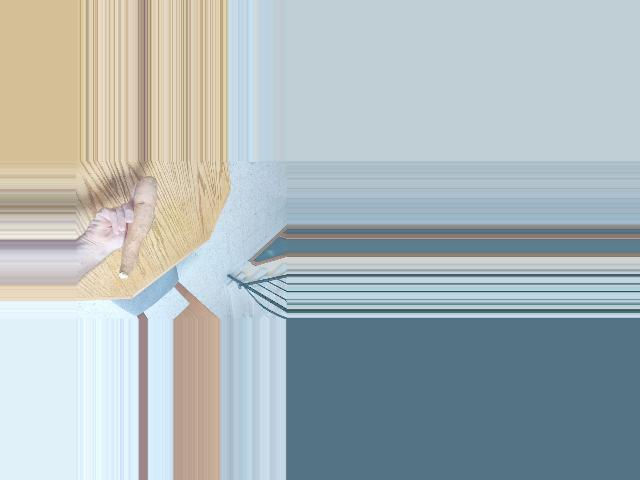sweet_potato: (114, 177, 161, 279)
